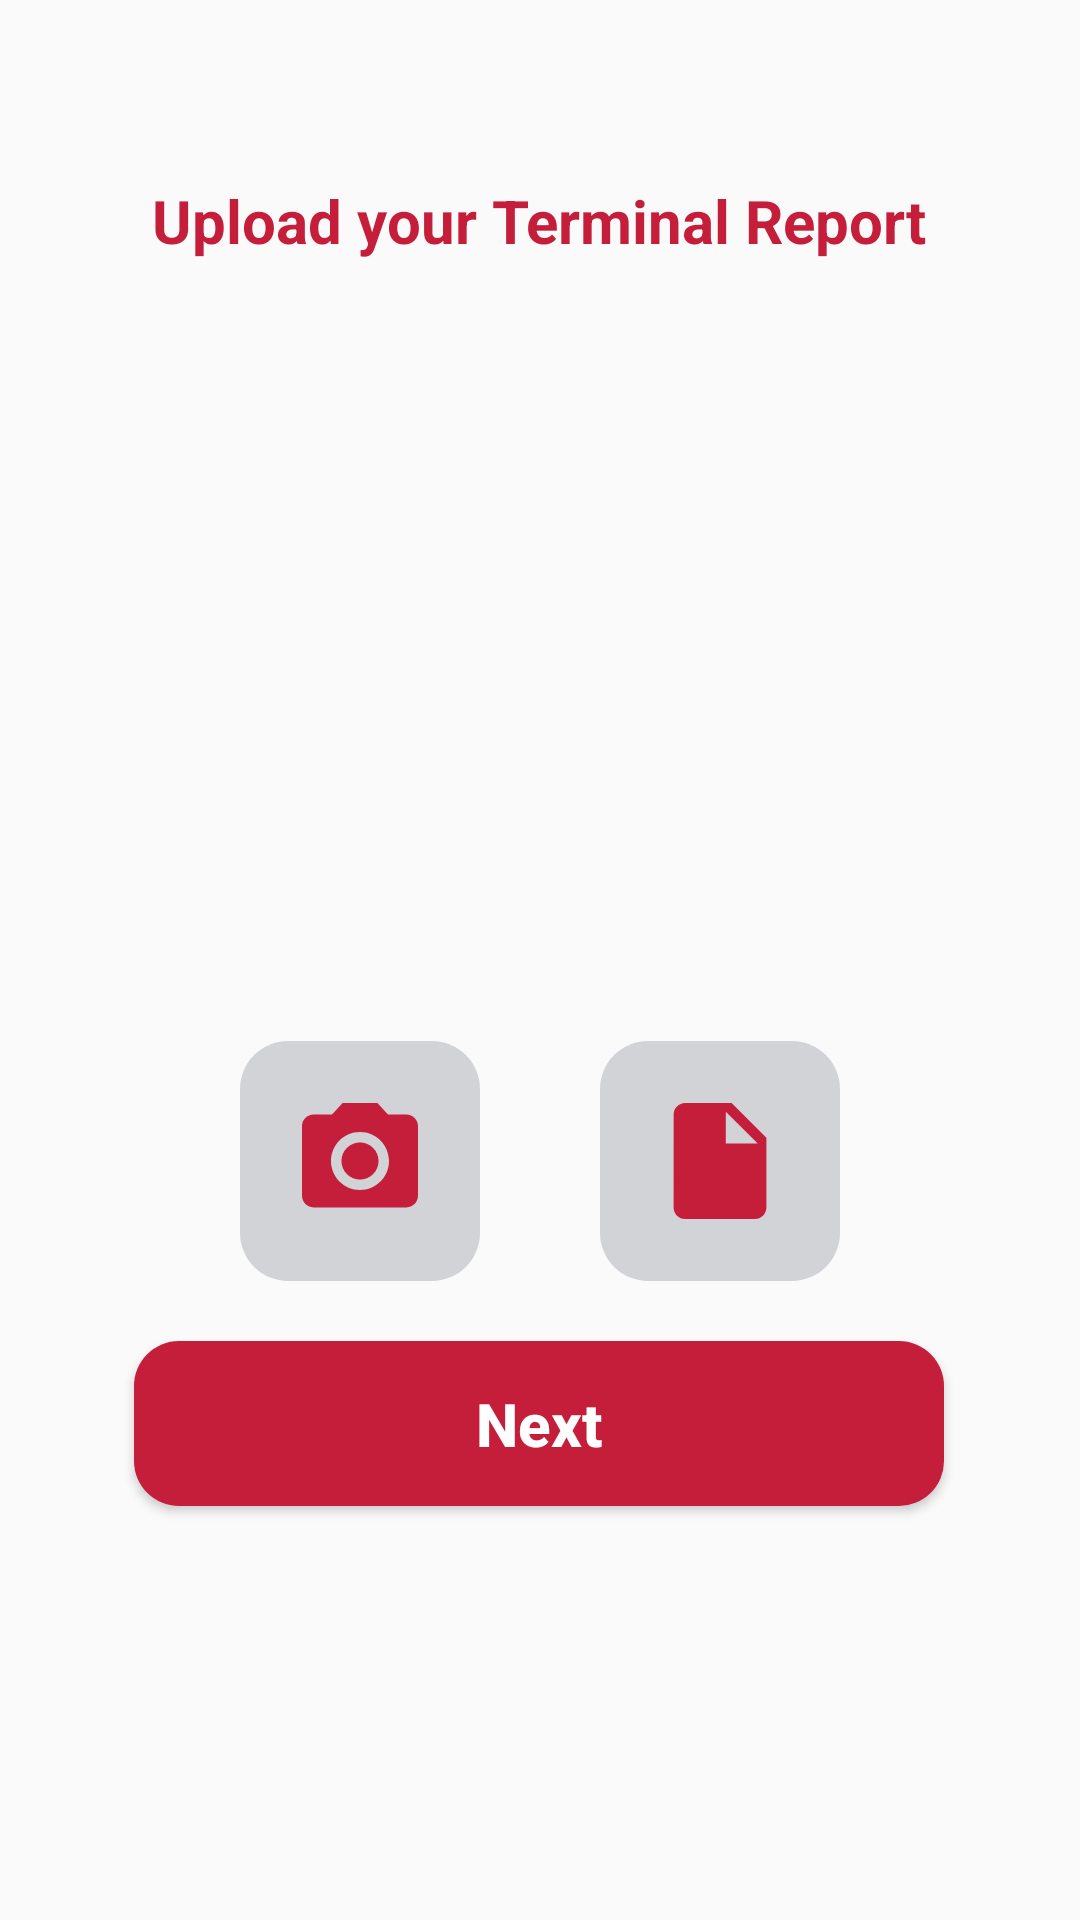

Named icons in this screenshot (1080w x 1920h) and their bounding boxes, (x1, y1, x2, y2):
cam: (240, 1041, 480, 1281)
file: (600, 1041, 840, 1281)
